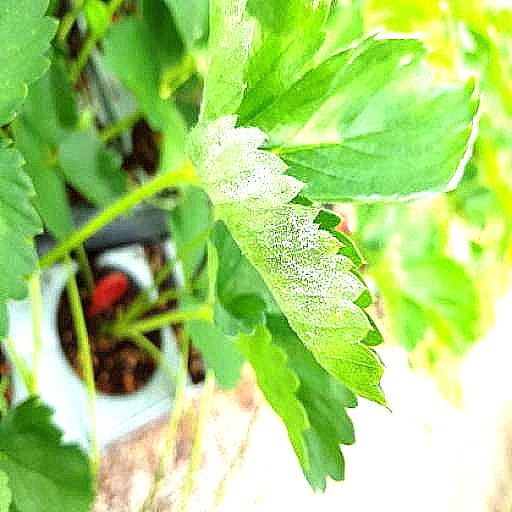Powdery Mildew Leaf: (185, 113, 393, 413), (241, 26, 482, 204), (198, 0, 331, 126)
